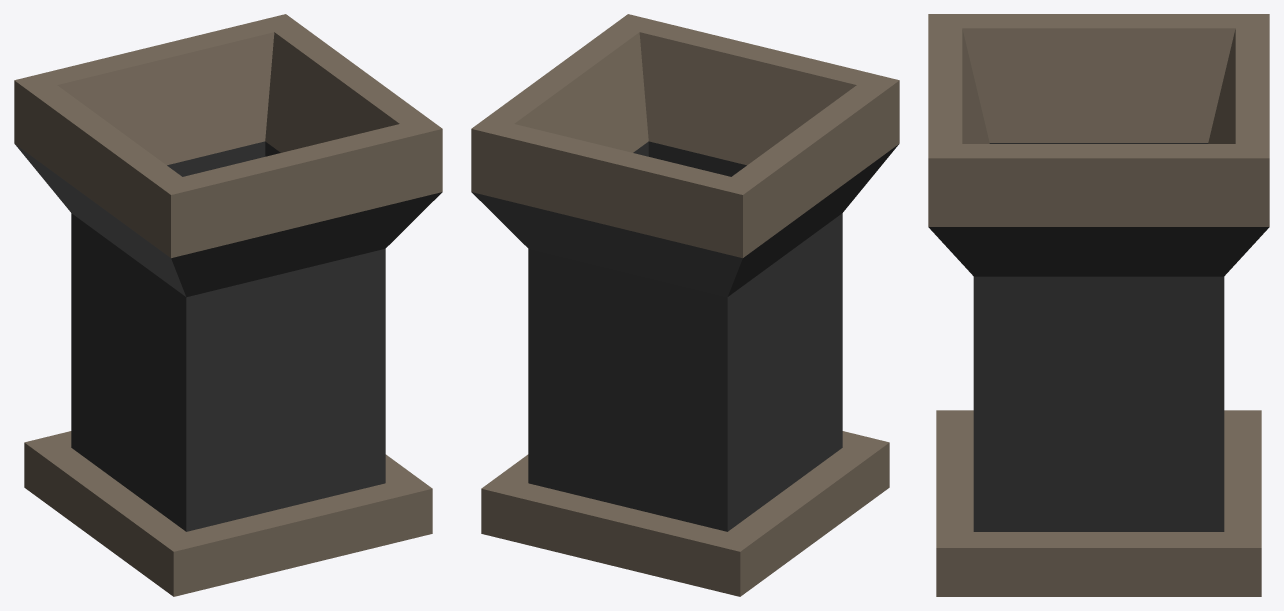
File: steampunk_trashcan.fbx
The picture shows the model from 3 angles, left to right: view 1: azimuth 30°, elevation 25°; view 2: azimuth 150°, elevation 25°; view 3: azimuth 270°, elevation 25°; orthographic projection. The views are drawn at different scales.
Visible parts, largest first — view 1: Cube.046; view 2: Cube.046; view 3: Cube.046.
Part boxes in pixels (x1,y1,x2,y2): Cube.046: (14, 14, 442, 596); Cube.046: (471, 14, 899, 596); Cube.046: (928, 14, 1269, 596).
Size of the model in its own units: 0.63 by 0.9 by 0.63.
